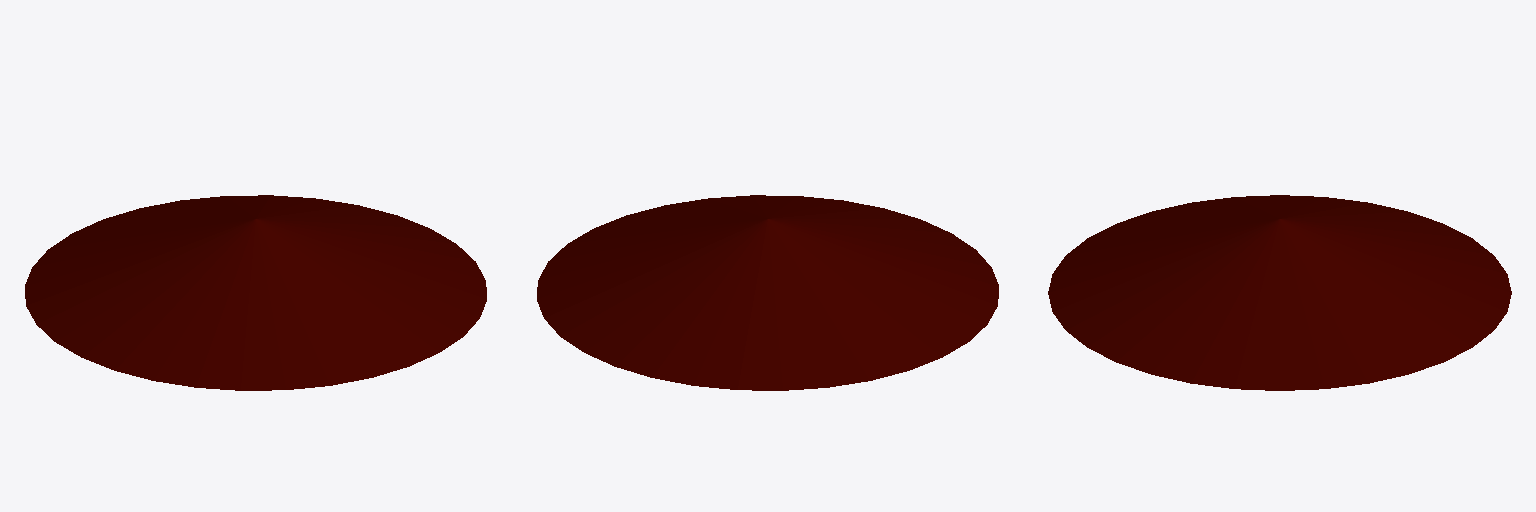
The model's file is circle_roof.obj.
The picture shows the model from 3 angles: view 1: azimuth 30°, elevation 25°; view 2: azimuth 150°, elevation 25°; view 3: azimuth 270°, elevation 25°; orthographic projection.
Visible parts, largest first — view 1: Cone; view 2: Cone; view 3: Cone.
Boxes of the visible parts, x1,y1,x2,y2 form: Cone: [25, 195, 486, 390]; Cone: [537, 195, 998, 390]; Cone: [1048, 195, 1511, 390].
Bounding box in the file's own units: 2 × 0.3532 × 2.